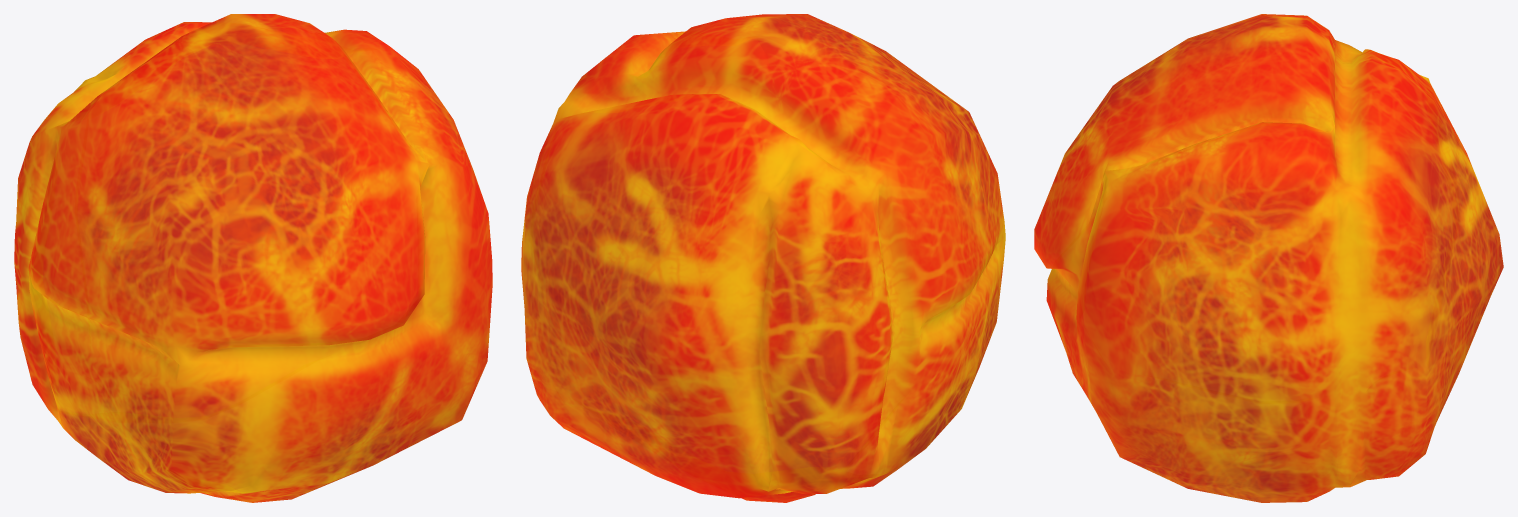
The model's file is fireball.glb.
3 renders of one model, left to right at view 1: azimuth 30°, elevation 25°; view 2: azimuth 150°, elevation 25°; view 3: azimuth 270°, elevation 25°, orthographic. The views are drawn at different scales.
Visible parts, largest first — view 1: Bolita fuego; view 2: Bolita fuego; view 3: Bolita fuego.
Boxes of the visible parts, bbox=[...] form: Bolita fuego: bbox=[14, 14, 492, 502]; Bolita fuego: bbox=[521, 14, 1005, 502]; Bolita fuego: bbox=[1034, 14, 1503, 502].
Size of the model in its own units: 51.22 by 54.96 by 51.17.
1 material, 1 textured.
